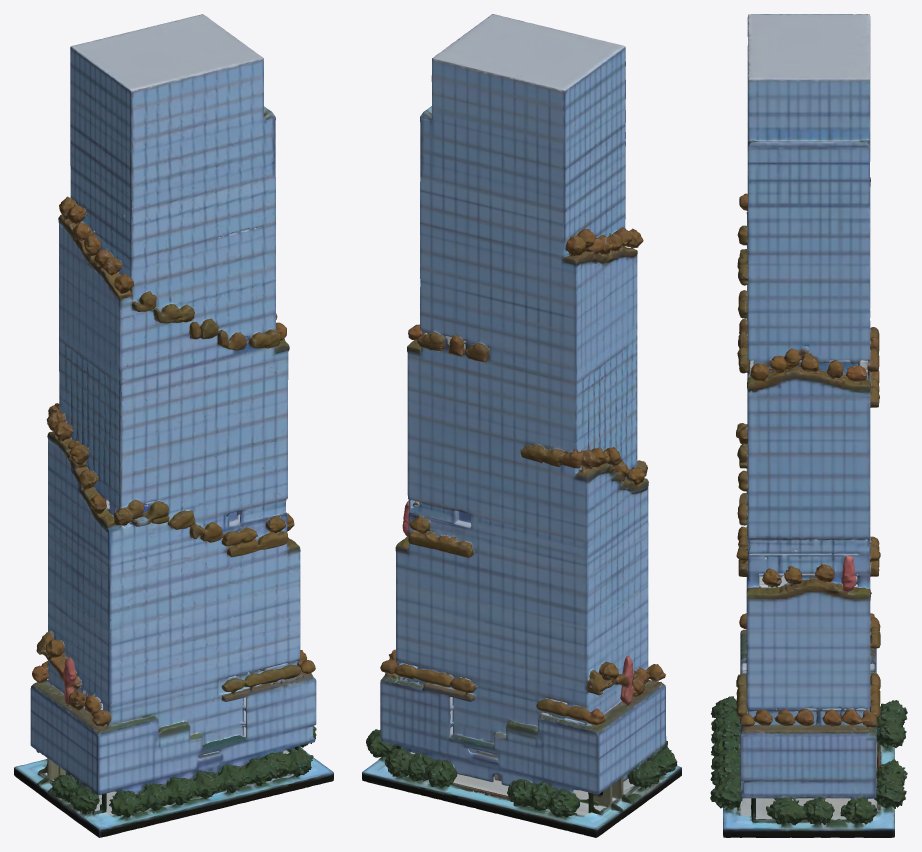
Rendered from spiral_generated_latest.glb.
3 renders of one model, left to right at view 1: azimuth 30°, elevation 25°; view 2: azimuth 150°, elevation 25°; view 3: azimuth 270°, elevation 25°, orthographic.
Visible parts, largest first — view 1: world; view 2: world; view 3: world.
Boxes of the visible parts, x1,y1,x2,y2 form: world: (14,14,333,837); world: (362,14,681,837); world: (710,14,907,837).
Bounding box in the file's own units: 0.3725 × 1 × 0.2454.
1 material, 1 textured.
